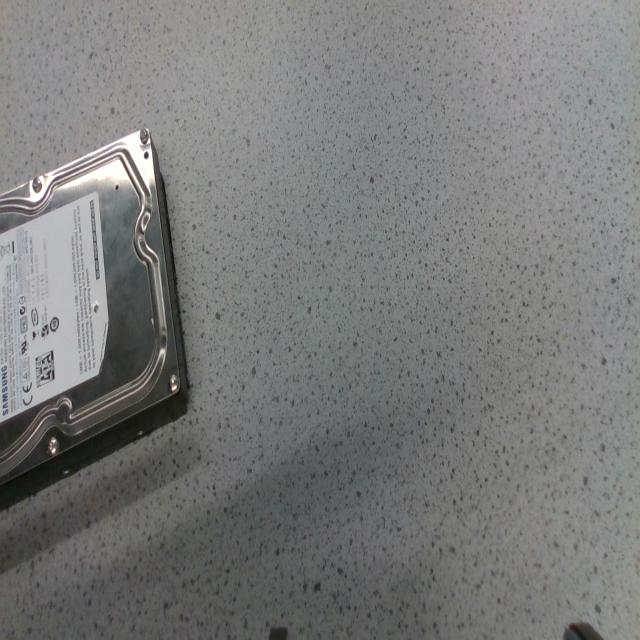case: (1, 136, 190, 510)
label: (0, 193, 108, 420)
lid: (0, 129, 179, 484)
screw: (47, 436, 58, 457), (168, 374, 179, 392), (139, 128, 150, 144), (32, 178, 42, 192)
